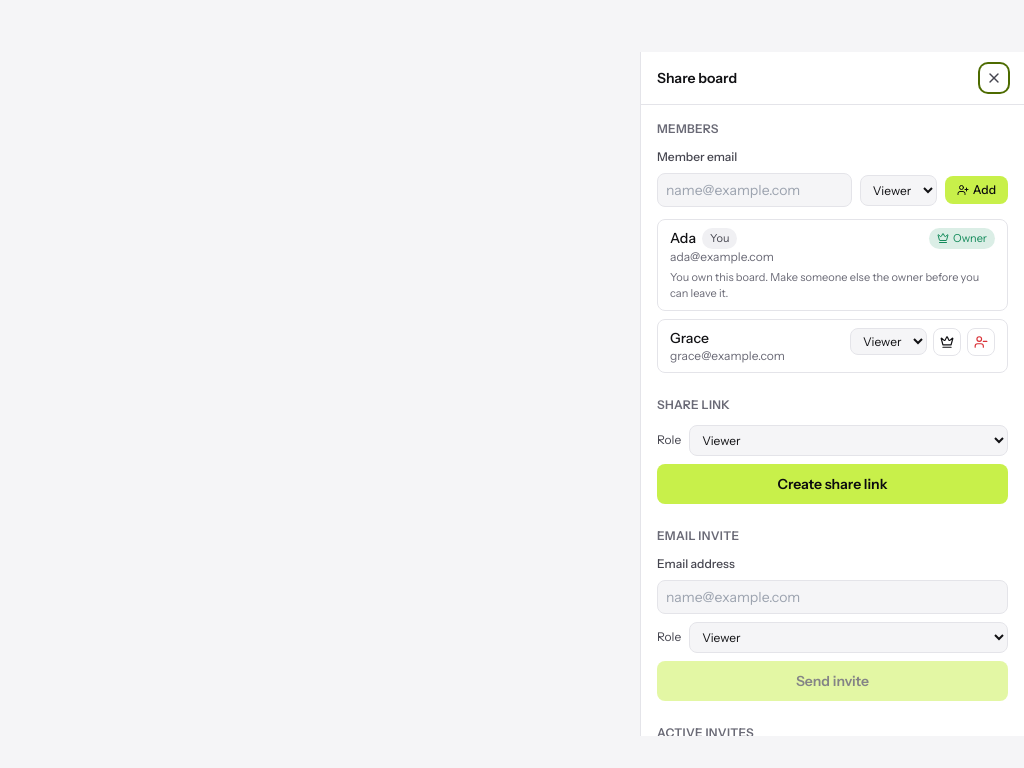
Scenario: BoardSharingPanel › removes a member, explains the share-link reset, and offers a new link
Click the button named "remove grace".
click(981, 342)  # box [967,328,995,356]
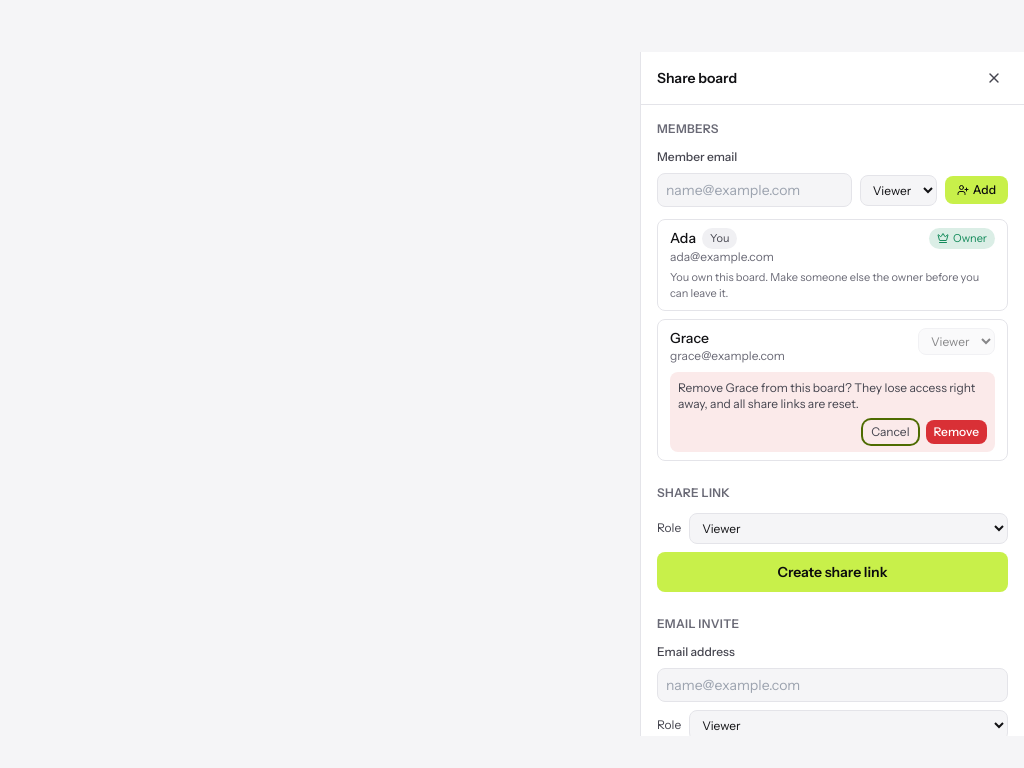
Click the button with aria-label "confirm remove".
click(956, 432)  # box [926,420,987,444]
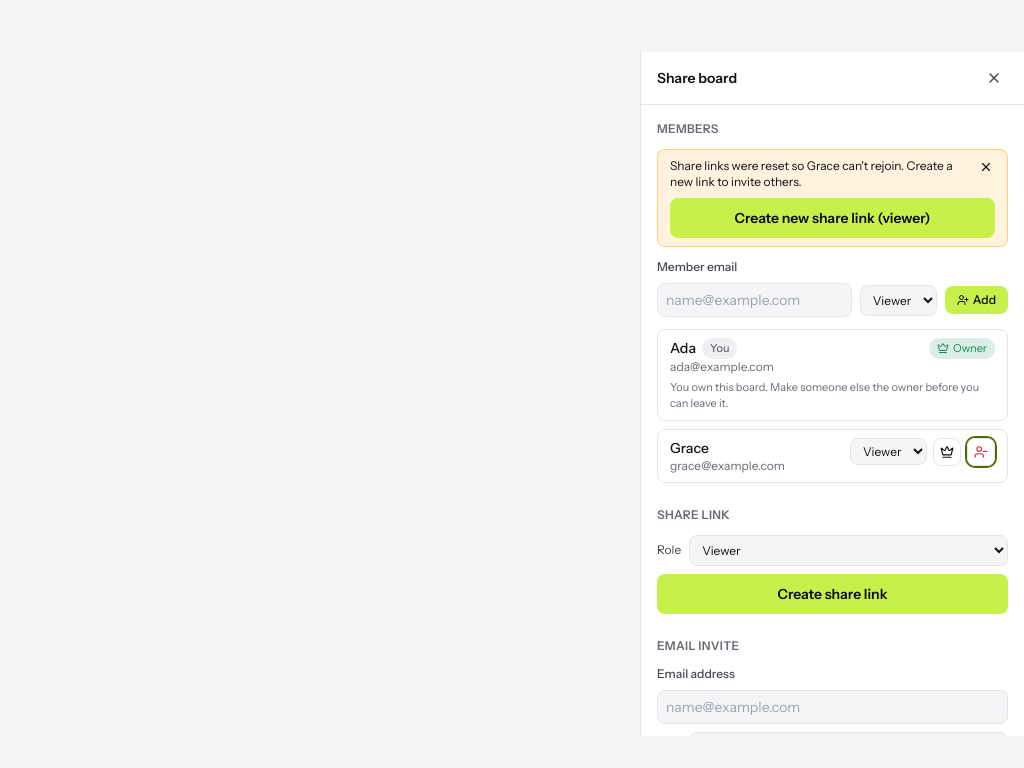
Now the message named "members notice" shows "Share links were reset so Grace can't rejoin. Create a new link to invite others.", box [657,149,1008,247]
Click the button "Create new share link (viewer)".
click(832, 218)  # box [670,198,995,238]
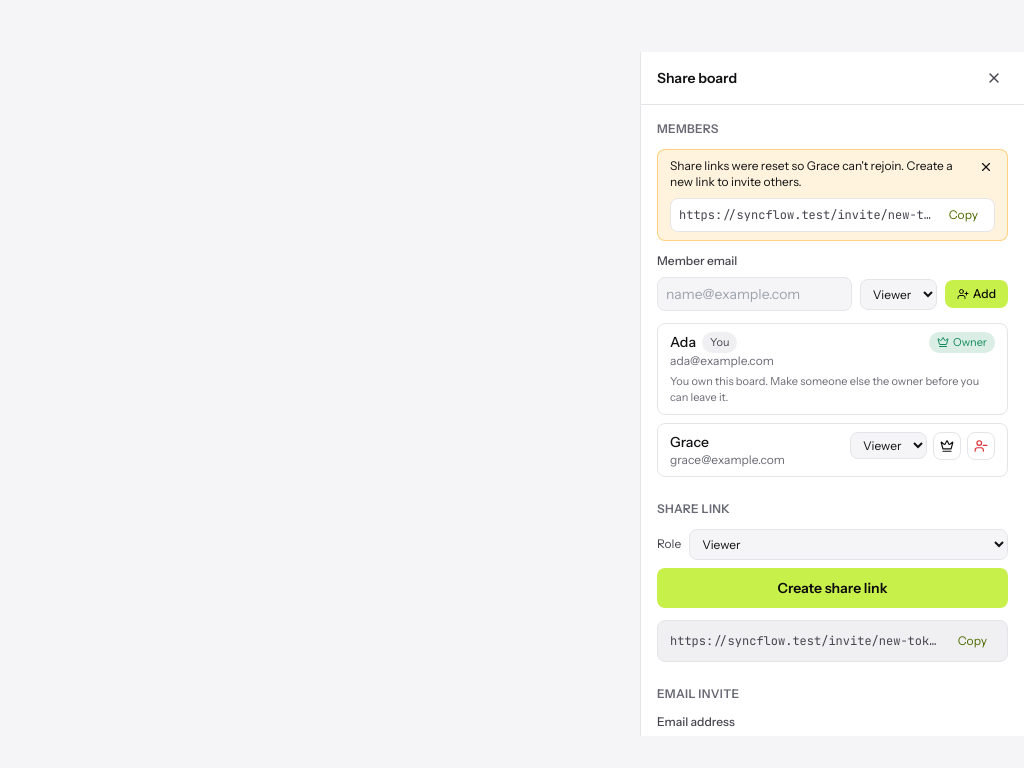
Now the field showing "https://syncflow.test/invite/new-token" is shown, box [679,207,933,223]
